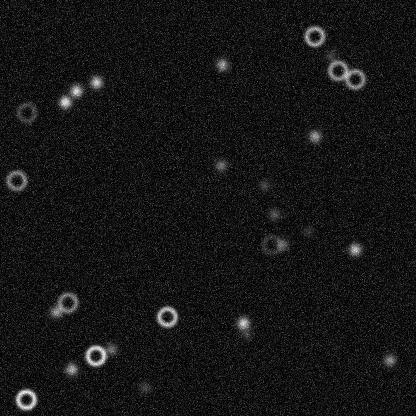Ring: (13, 387, 37, 411), (83, 343, 107, 367), (302, 24, 326, 48), (14, 100, 38, 124), (325, 58, 349, 82), (155, 304, 179, 328), (4, 168, 28, 192), (342, 67, 366, 91), (259, 232, 283, 256), (55, 290, 79, 314)
Spot: (274, 236, 290, 252), (299, 222, 315, 238), (306, 127, 322, 143), (323, 48, 339, 64), (57, 93, 73, 109), (381, 352, 397, 368), (266, 206, 282, 222), (102, 341, 118, 357), (235, 314, 251, 330), (346, 241, 362, 257), (63, 361, 79, 377), (88, 74, 104, 90), (48, 303, 64, 319), (68, 82, 84, 98), (214, 56, 230, 72), (255, 177, 271, 193), (136, 379, 152, 395), (237, 325, 253, 341), (212, 157, 228, 173)
